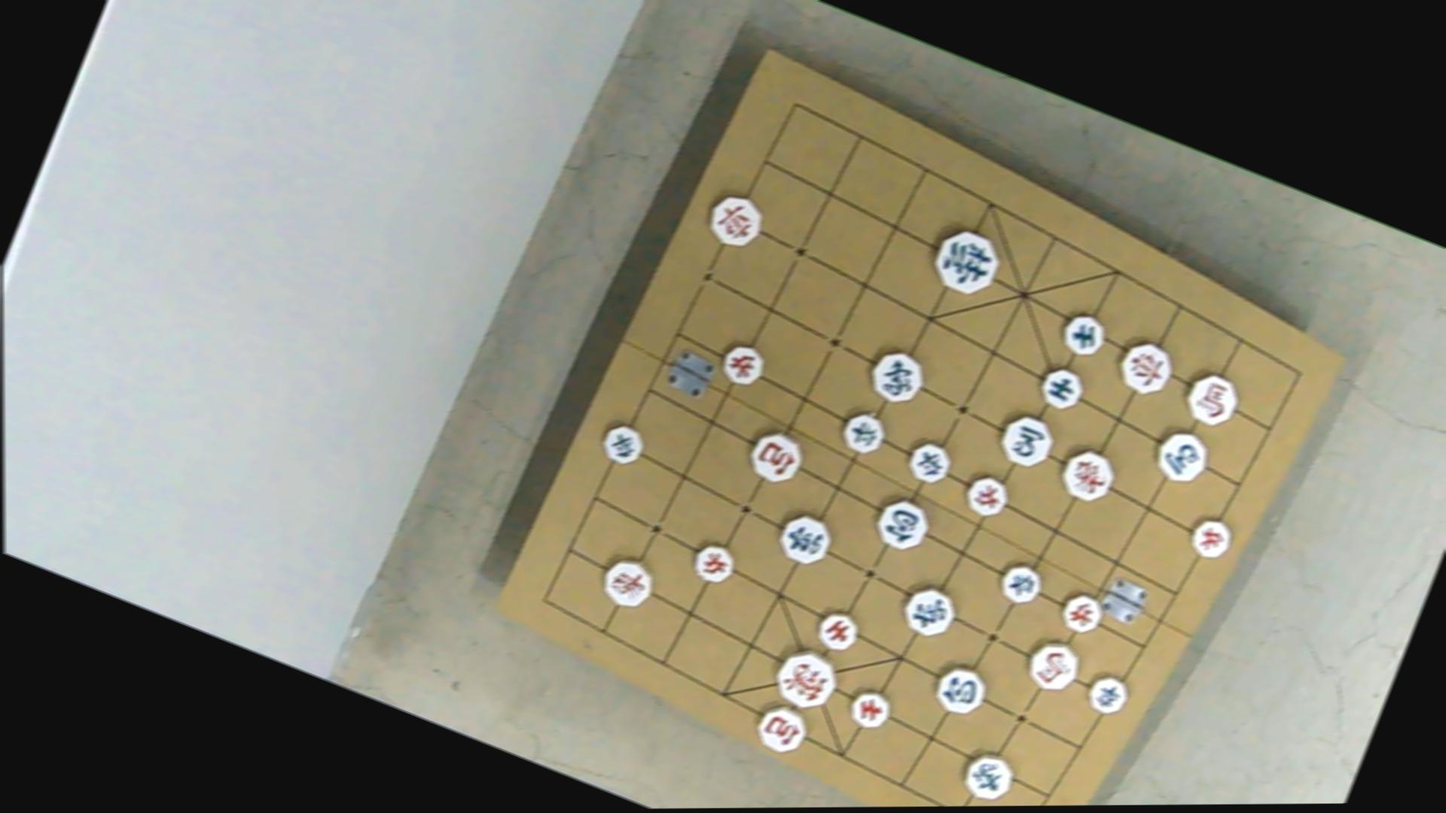cha_green: (775, 508, 837, 568), (898, 581, 960, 641)
cha_red: (701, 187, 768, 251), (1113, 336, 1178, 400)
jol_green: (838, 407, 889, 456), (997, 560, 1049, 608), (904, 439, 954, 488), (1083, 670, 1133, 719), (597, 420, 648, 468)
jol_red: (715, 341, 767, 391), (961, 470, 1012, 520), (1187, 512, 1238, 562), (1056, 587, 1106, 635), (689, 540, 739, 588)
ma_green: (1148, 425, 1215, 490), (996, 412, 1059, 471)
ma_red: (1182, 368, 1246, 431), (1022, 635, 1084, 696)
po_green: (868, 492, 932, 553), (928, 659, 990, 719)
po_red: (746, 427, 810, 489), (752, 699, 813, 757)
sa_green: (1057, 311, 1110, 361), (1034, 364, 1087, 413)
sa_red: (814, 607, 864, 656), (844, 685, 893, 732)
sang_green: (865, 344, 932, 409), (959, 745, 1019, 803)
sang_red: (1057, 444, 1121, 507), (596, 553, 660, 615)
wang_green: (926, 221, 1006, 300)
wang_red: (769, 641, 844, 714)
